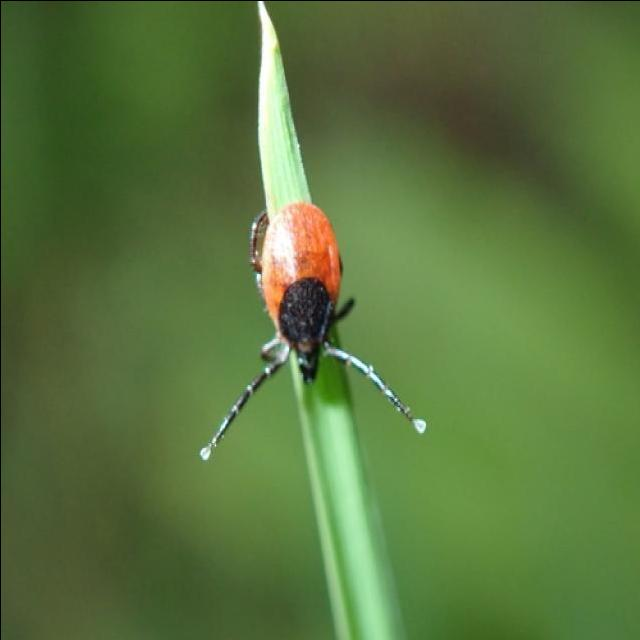Ixodes Ricinus-F: (200, 201, 424, 459)
